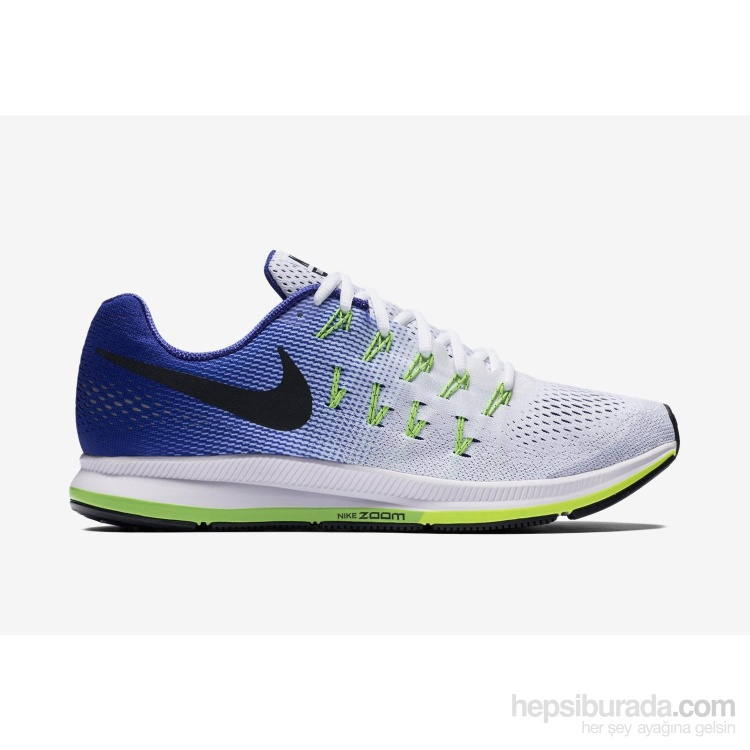nike: (90, 342, 325, 440)
